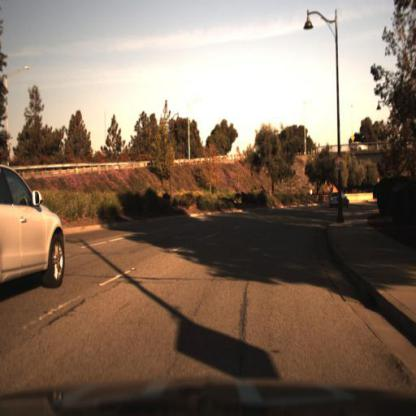car: (0, 161, 67, 302), (328, 189, 350, 212)
